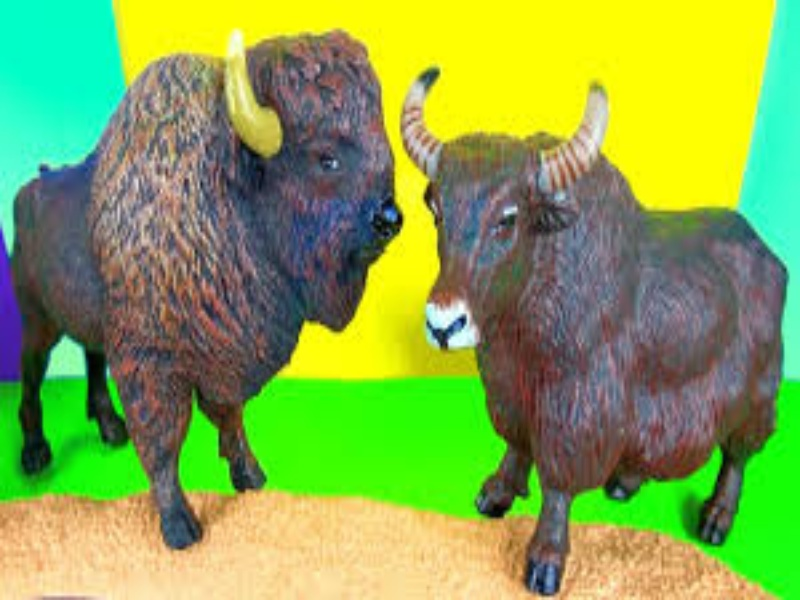buffalo: (38, 34, 792, 572)
